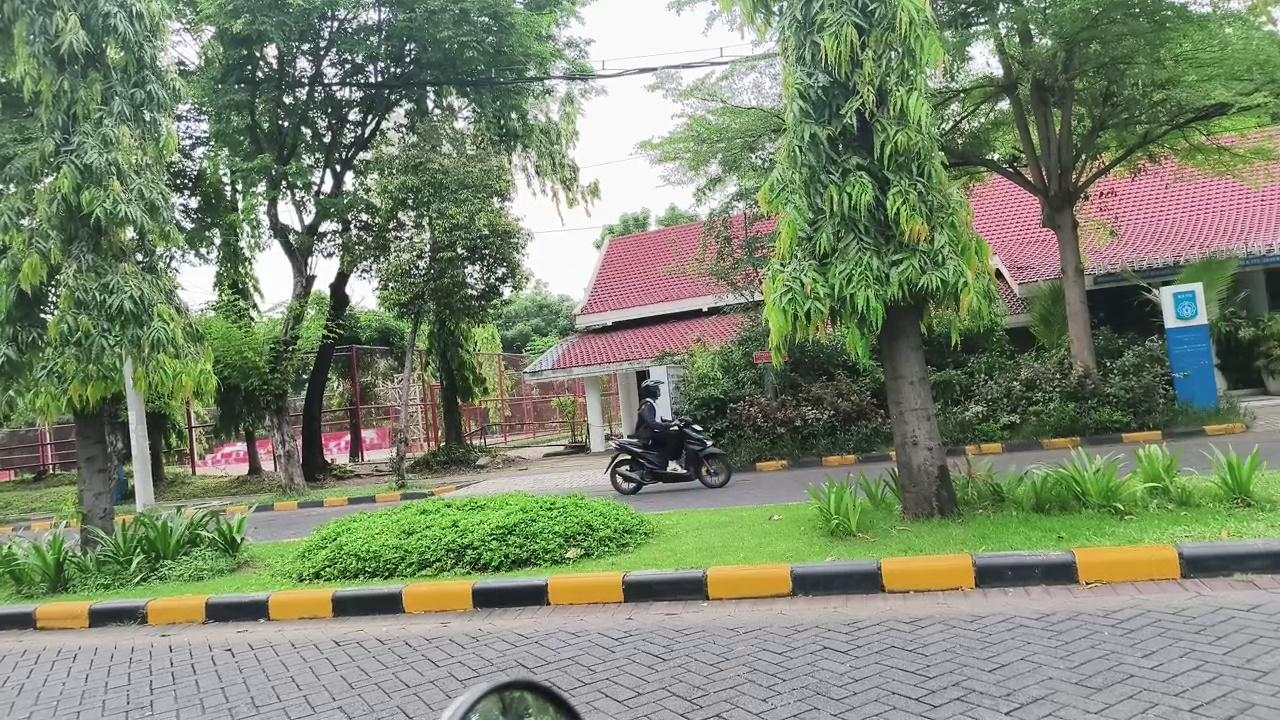Helmet: (635, 379, 685, 472)
Motor: (607, 419, 731, 494)
